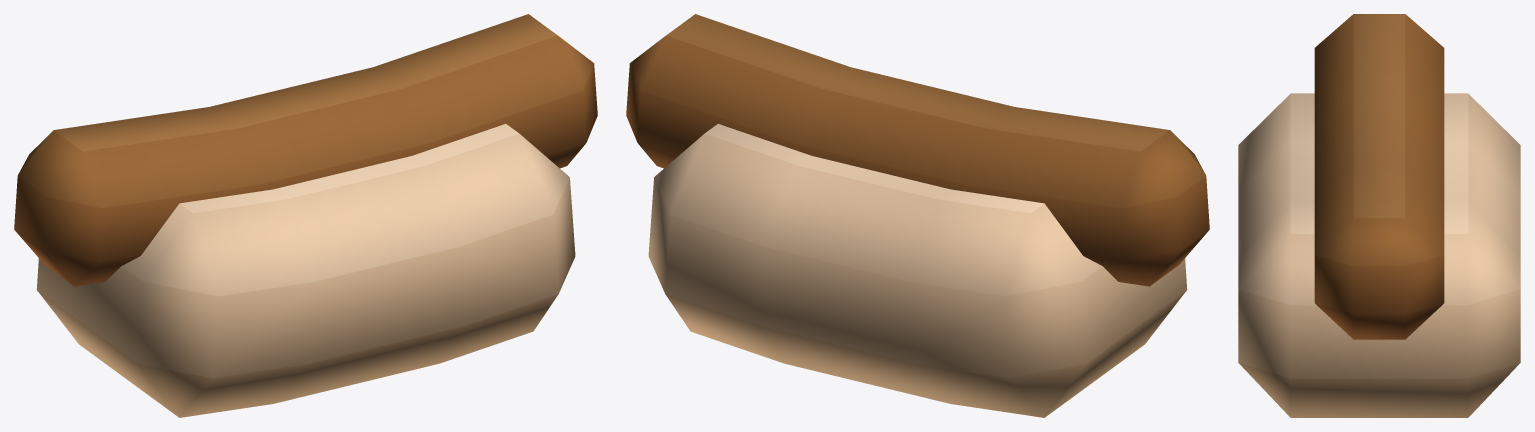
The model's file is hotdog.fbx.
The picture shows the model from 3 angles, left to right: view 1: azimuth 30°, elevation 25°; view 2: azimuth 150°, elevation 25°; view 3: azimuth 270°, elevation 25°; orthographic projection. The views are drawn at different scales.
Parts seen in each view (by area): view 1: hotdog; view 2: hotdog; view 3: hotdog.
Boxes of the visible parts, x1,y1,x2,y2 form: hotdog: (14, 14, 597, 417); hotdog: (626, 14, 1209, 417); hotdog: (1238, 14, 1520, 417).
Size of the model in its own units: 51.76 by 23.61 by 25.83.
